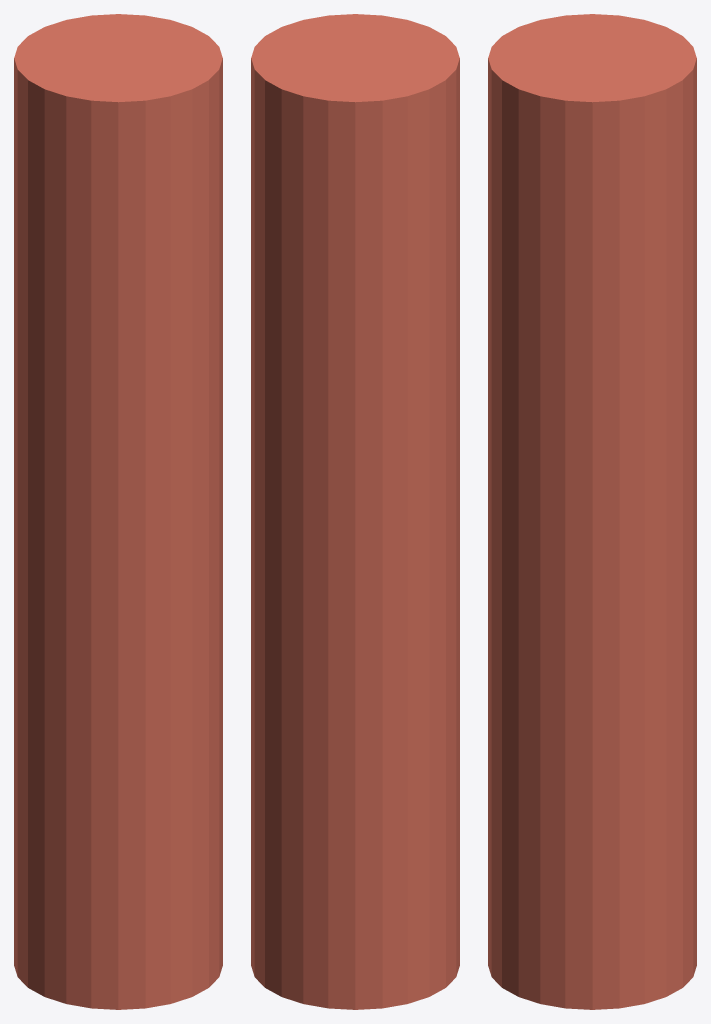
Rendered from own_cyl_5x24x5_c03020.glb.
3 views of the same model, side by side, from view 1: azimuth 30°, elevation 25°; view 2: azimuth 150°, elevation 25°; view 3: azimuth 270°, elevation 25° (orthographic).
Visible parts, largest first — view 1: geometry_0; view 2: geometry_0; view 3: geometry_0.
Boxes of the visible parts, x1=… form: geometry_0: x1=14, y1=14, x2=222, y2=1009; geometry_0: x1=251, y1=14, x2=459, y2=1009; geometry_0: x1=488, y1=14, x2=696, y2=1009.
Bounding box in the file's own units: 0.05 × 0.24 × 0.05.
